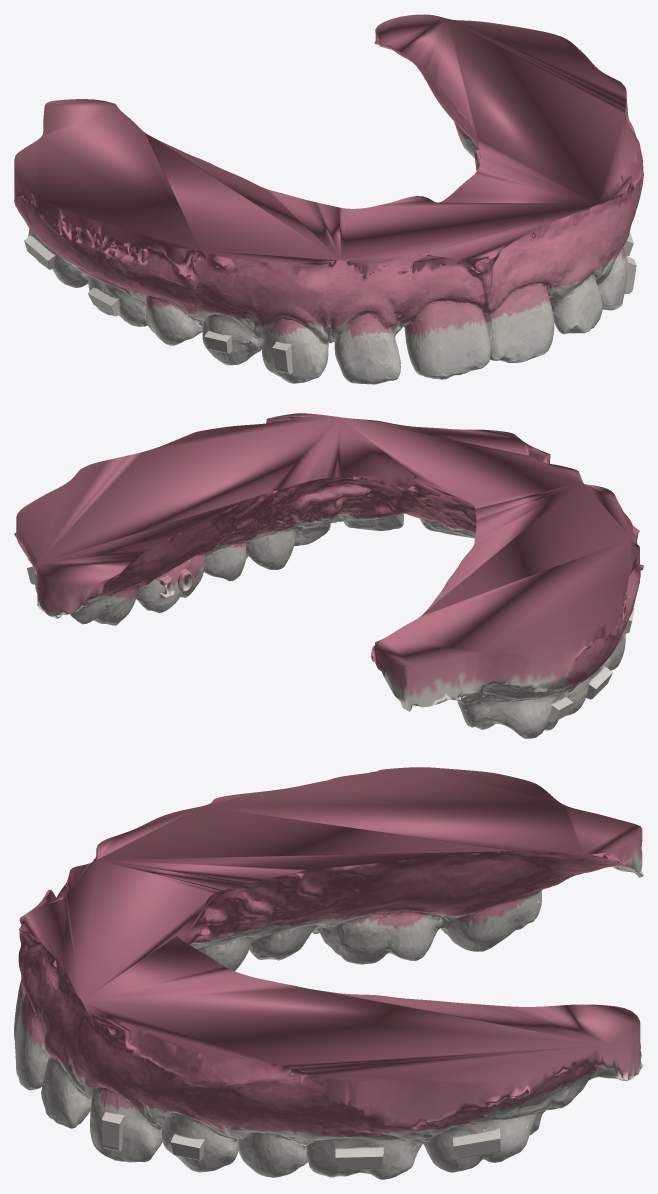
Rendered from Niya Priority Upper jaw - 10 - Model.glb.
3 renders of one model, top to bottom at view 1: azimuth 30°, elevation 25°; view 2: azimuth 150°, elevation 25°; view 3: azimuth 270°, elevation 25°, orthographic. The views are drawn at different scales.
Parts seen in each view (by area): view 1: Niya Priority Upper jaw - 10 - Model; view 2: Niya Priority Upper jaw - 10 - Model; view 3: Niya Priority Upper jaw - 10 - Model.
Part boxes in pixels (x1,y1,x2,y2): Niya Priority Upper jaw - 10 - Model: (14, 14, 643, 384); Niya Priority Upper jaw - 10 - Model: (14, 413, 643, 738); Niya Priority Upper jaw - 10 - Model: (14, 767, 643, 1179).
Size of the model in its own units: 66.35 by 13.72 by 55.77.
